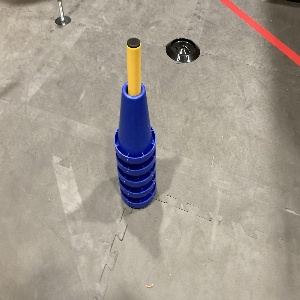Blue_5: (110, 80, 161, 210)
